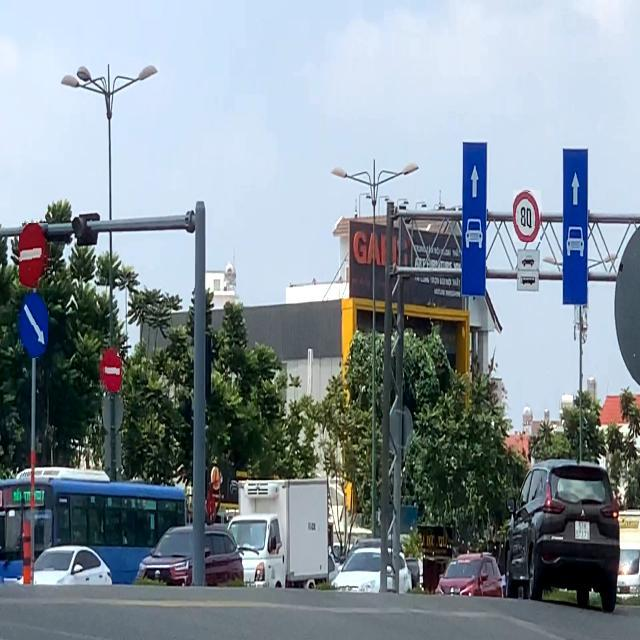P-102: (20, 223, 50, 288), (100, 348, 121, 392)
P-127: (514, 190, 542, 242)
R-302a: (17, 290, 48, 358)
